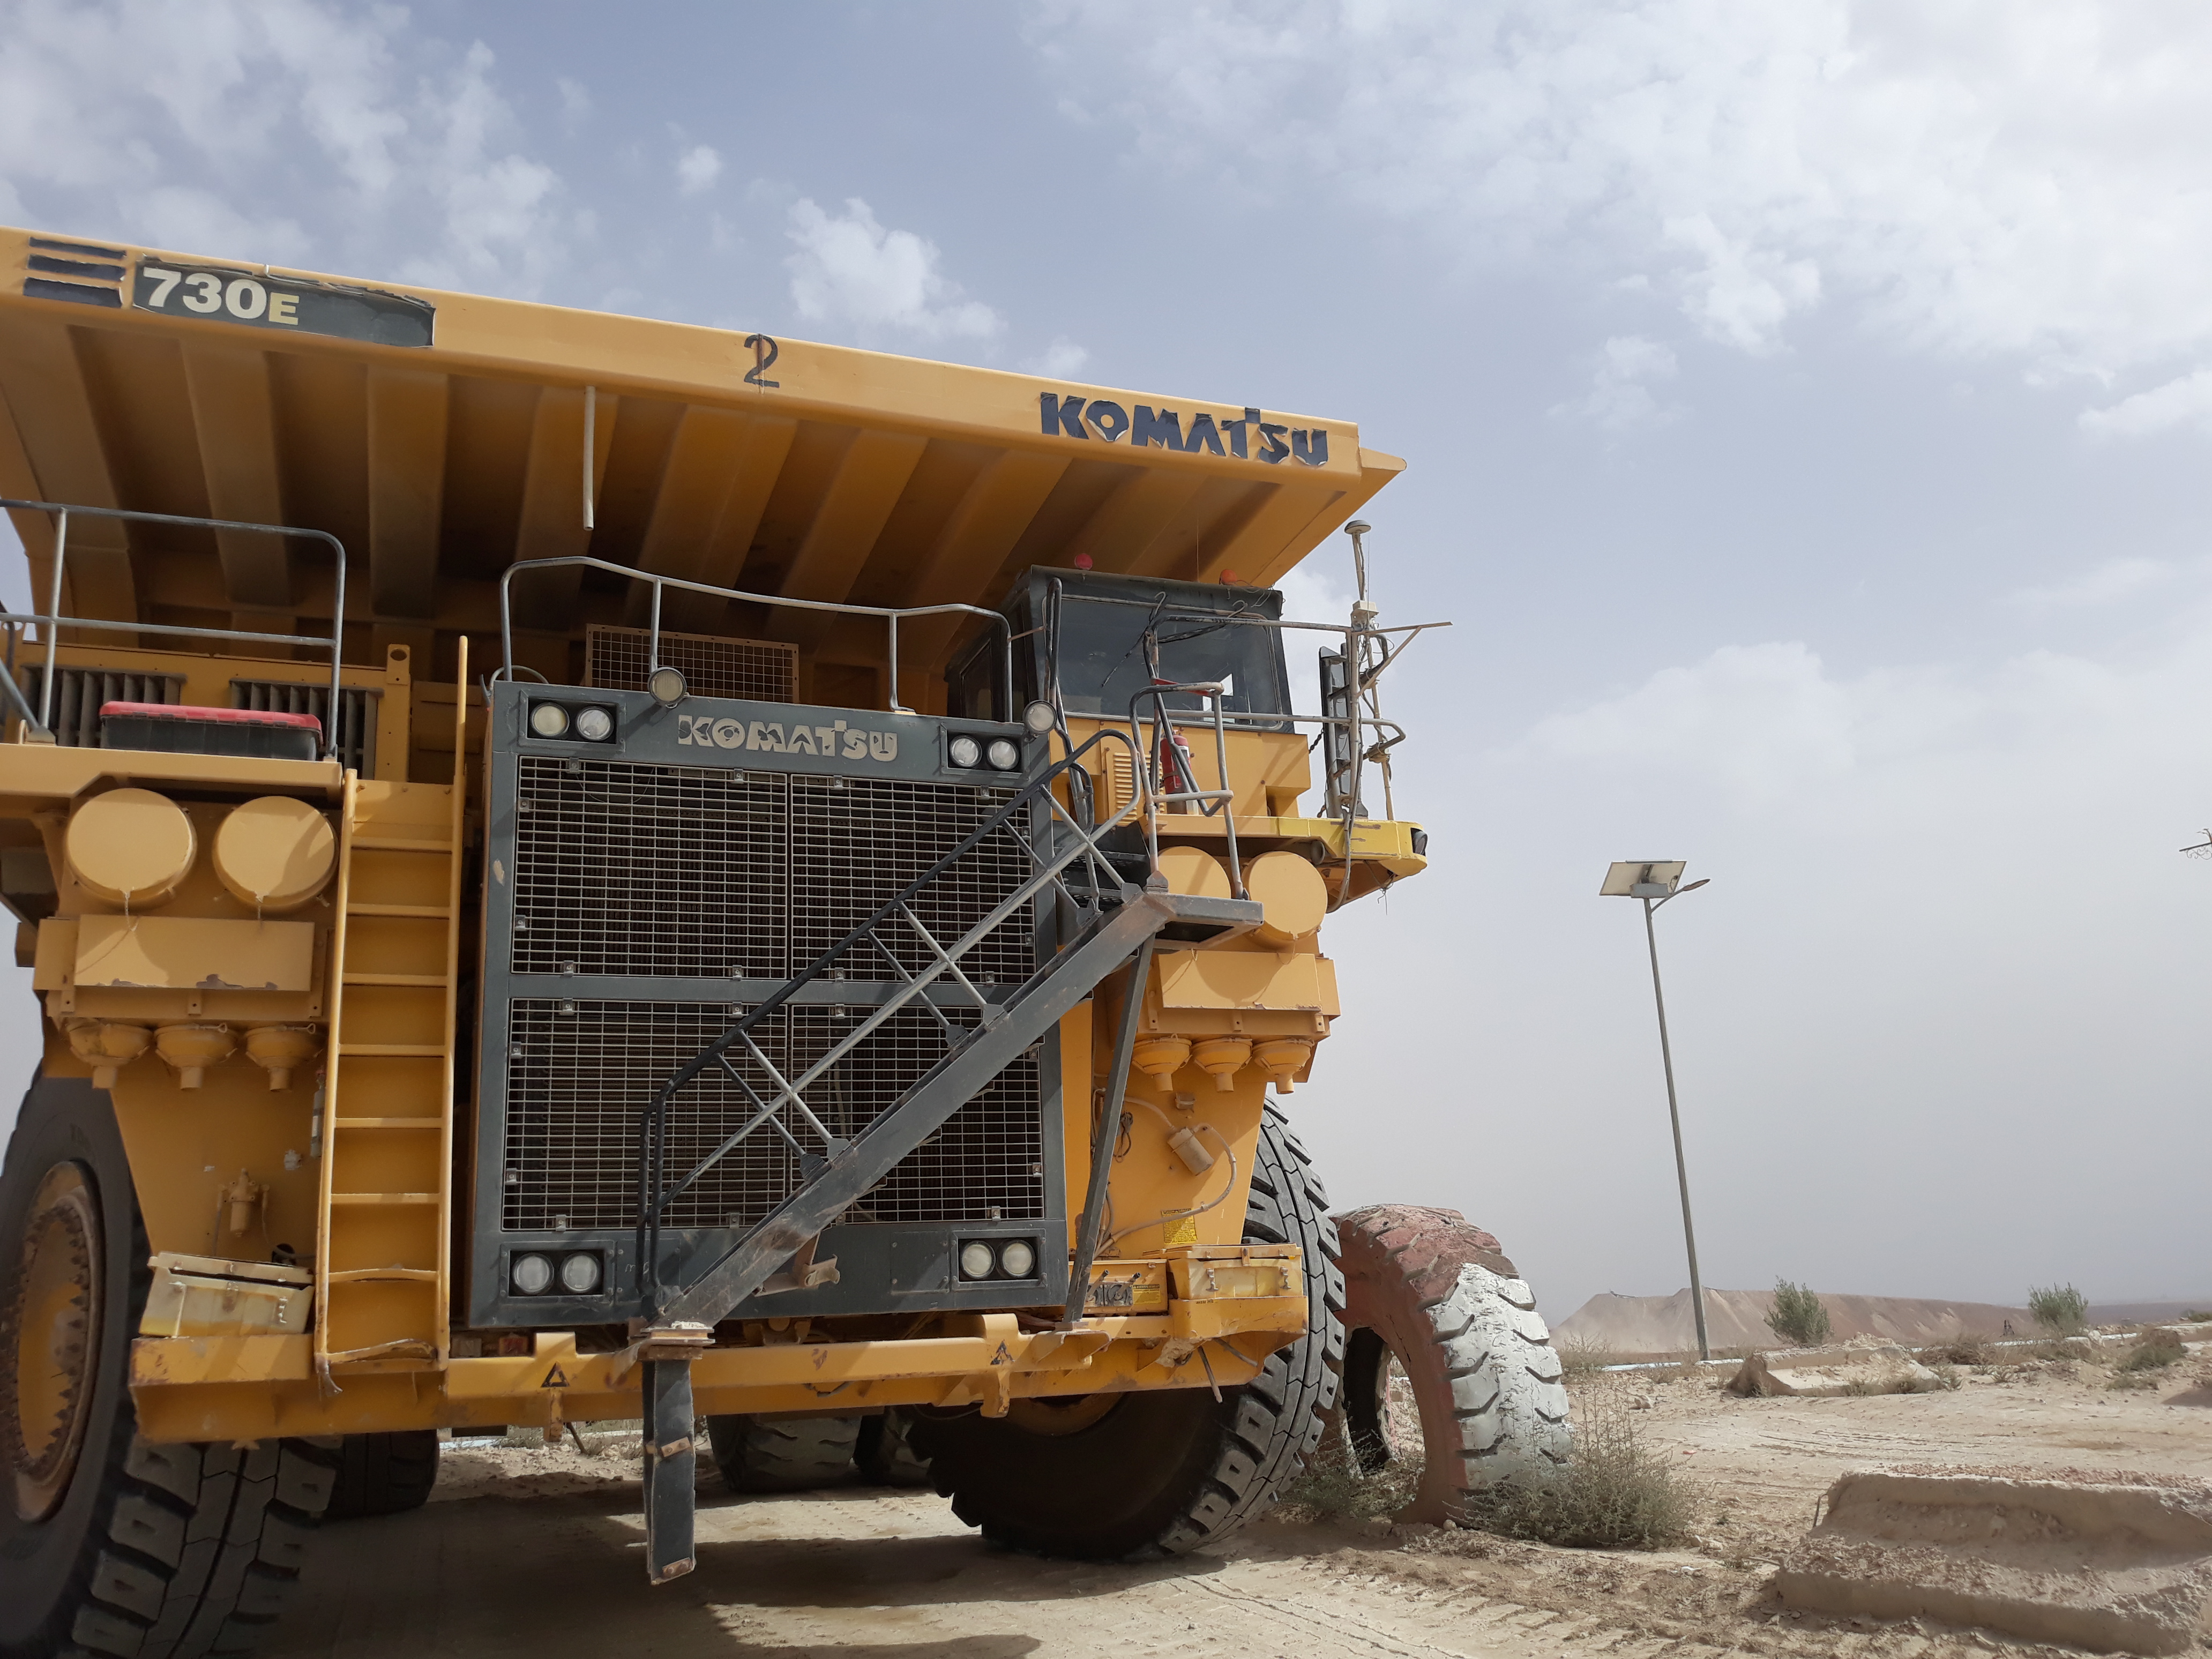camion: (0, 199, 1651, 1638)
